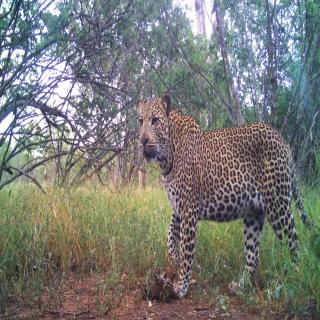Leopard: (125, 86, 311, 312)
